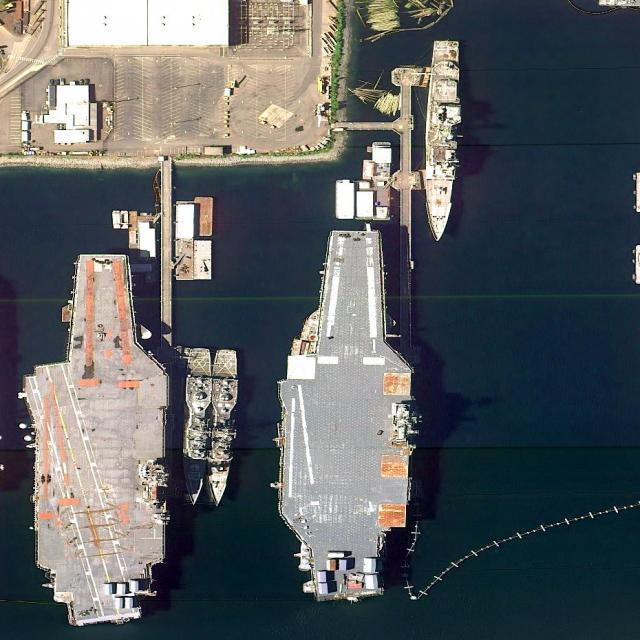Aircraft Carrier: (18, 253, 172, 627), (273, 229, 417, 604)
Cruiser: (421, 39, 460, 241)
Dock: (389, 70, 423, 354), (157, 158, 174, 359)
Frigate: (203, 349, 240, 506), (185, 347, 210, 504)
